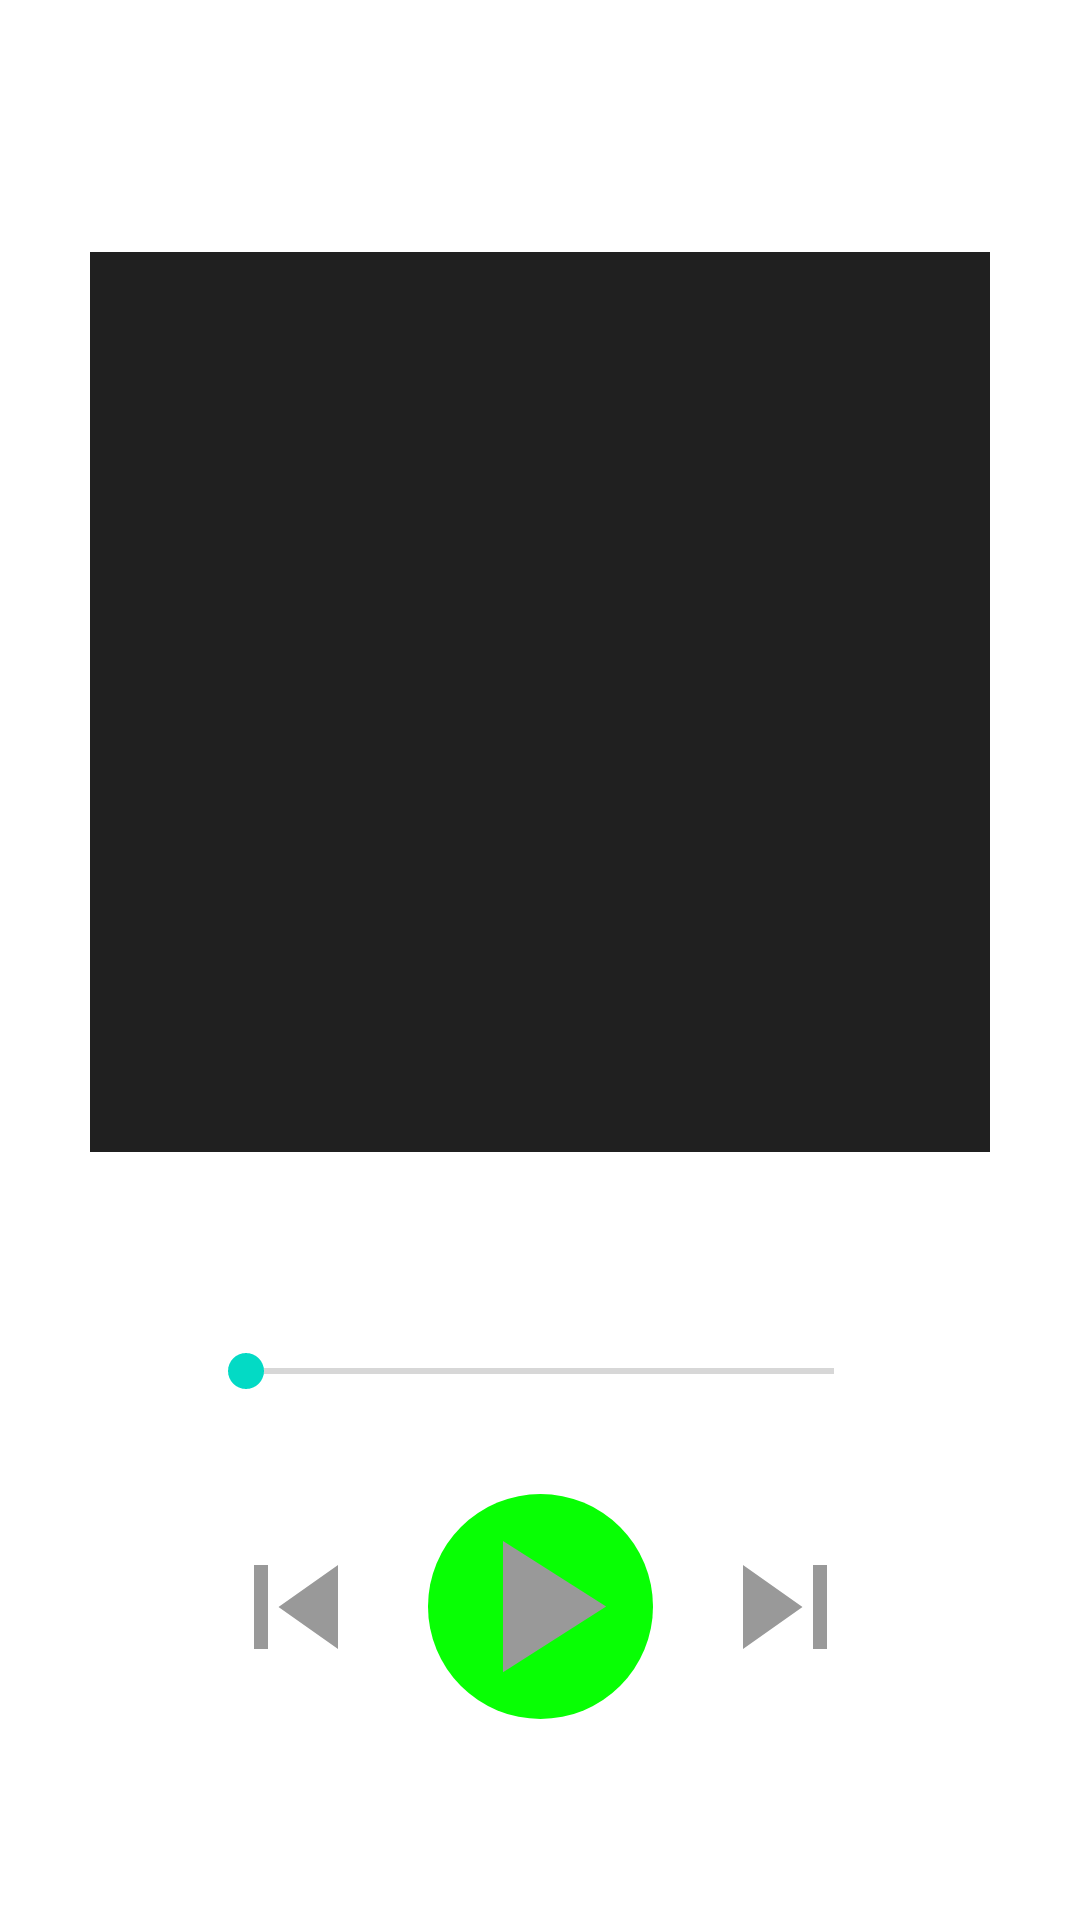

Where to tap for icons on this 1080px x 1920px app screen, as [x,y]:
play: [540,1606]
skip next: [785,1607]
skip previous: [296,1607]
